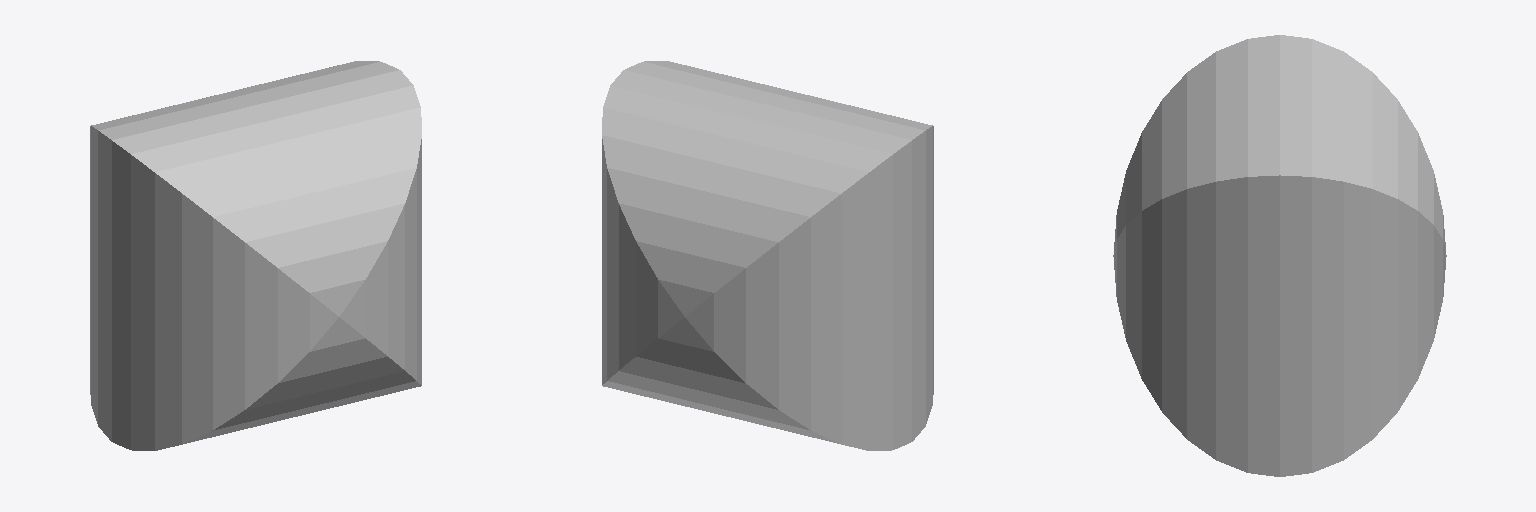
Rendered from snake_body2.obj.
3 renders of one model, left to right at view 1: azimuth 30°, elevation 25°; view 2: azimuth 150°, elevation 25°; view 3: azimuth 270°, elevation 25°, orthographic.
Parts seen in each view (by area): view 1: 柱体; view 2: 柱体; view 3: 柱体.
Boxes of the visible parts, box(x1,y1,x2,y2) form: 柱体: box(90, 61, 421, 450); 柱体: box(602, 61, 933, 450); 柱体: box(1113, 35, 1446, 476).
Bounding box in the file's own units: 2 × 2 × 2.